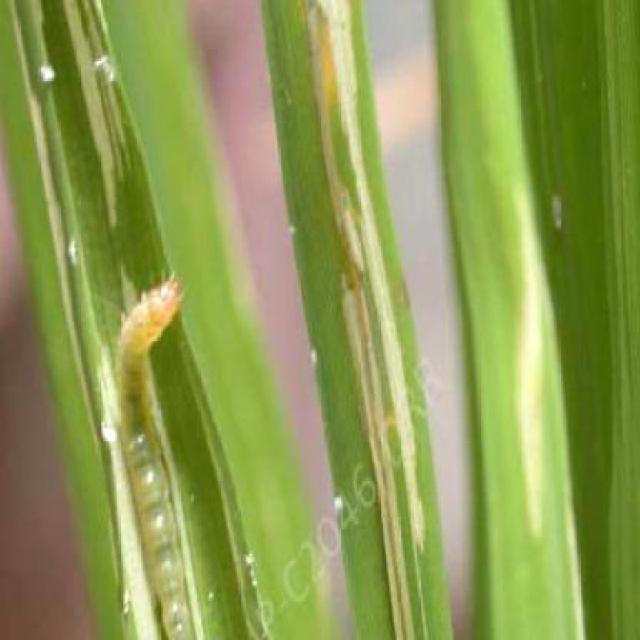leaf-folder: (93, 263, 221, 640)
